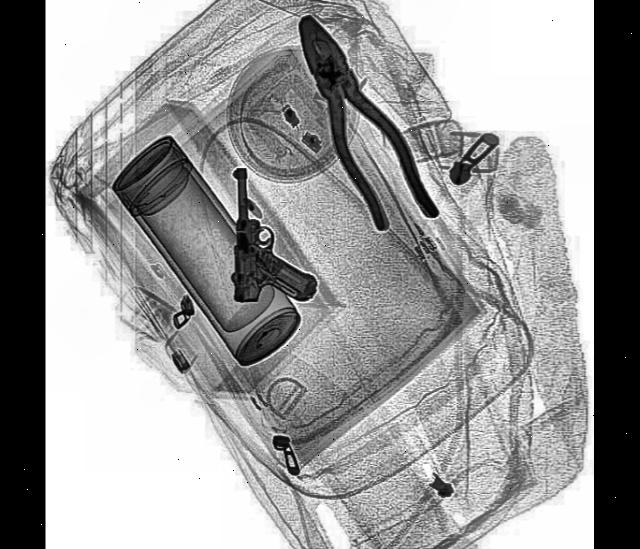Gun: (230, 166, 318, 306)
Pliers: (277, 0, 443, 258)
